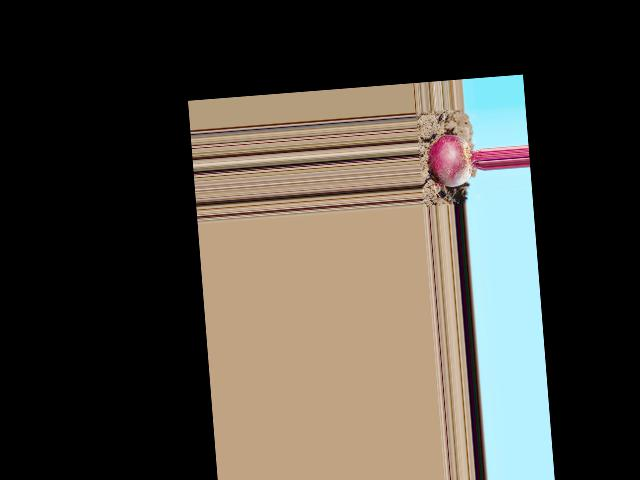beet: (426, 132, 484, 189)
